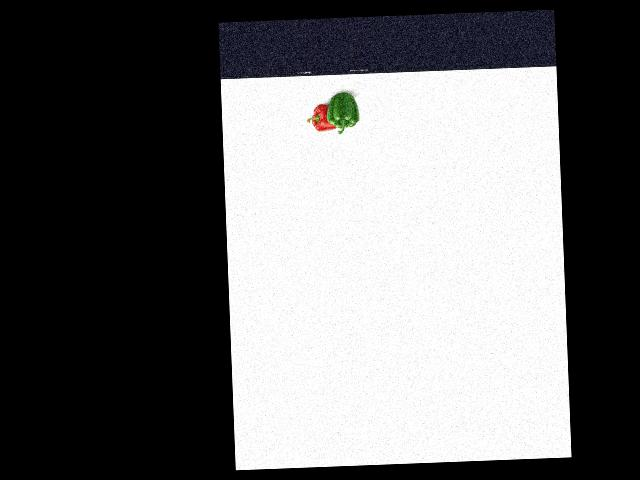bell_pepper: (306, 104, 337, 135)
